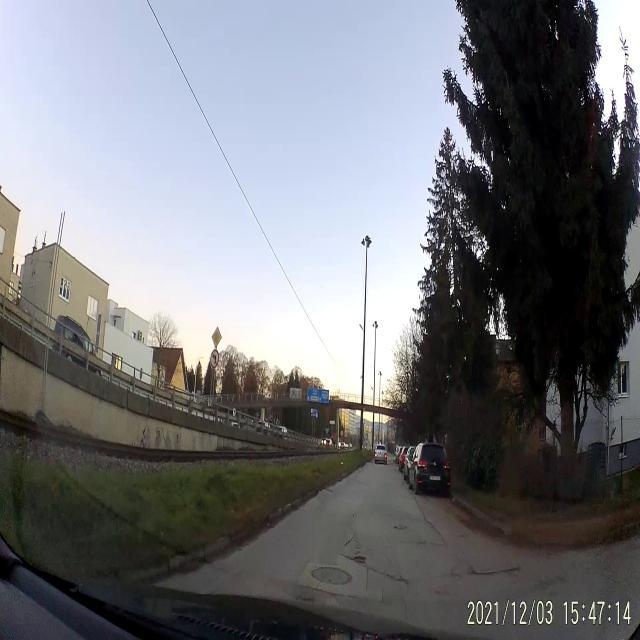Manhole: (310, 562, 352, 588), (397, 522, 405, 531)
Pothole: (364, 566, 412, 624), (470, 561, 521, 576), (296, 593, 318, 605), (352, 552, 368, 564), (327, 488, 333, 494), (394, 524, 397, 530)
